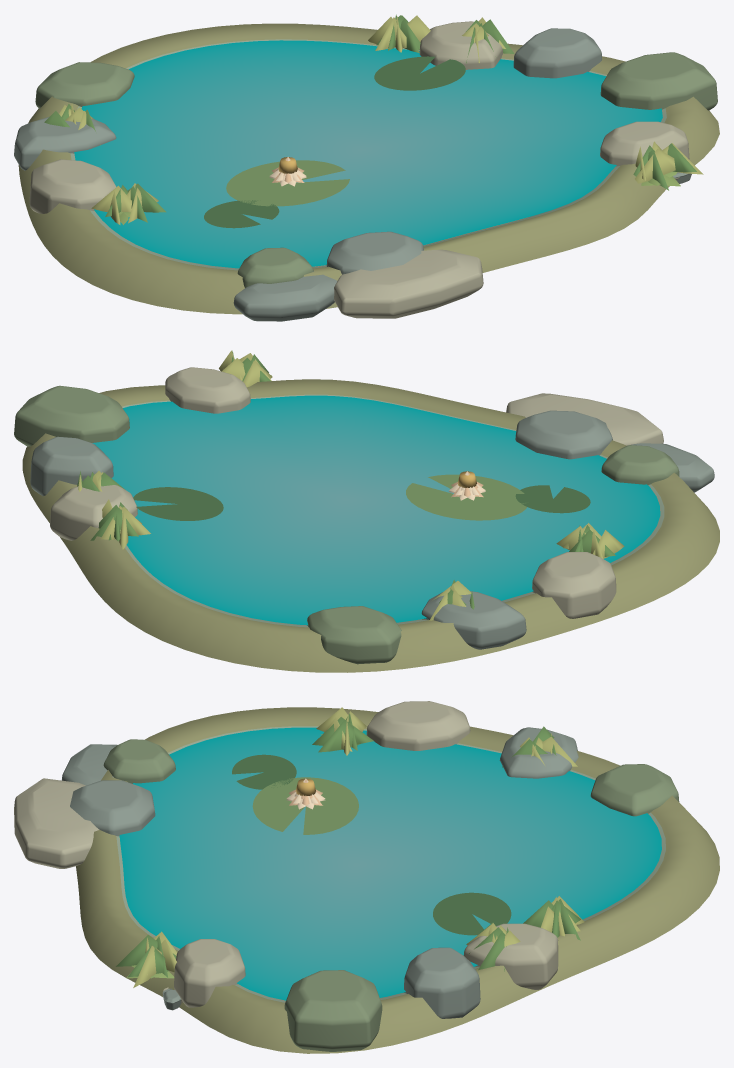
The model's file is cozy_pond.glb.
The picture shows the model from 3 angles, top to bottom: view 1: azimuth 30°, elevation 25°; view 2: azimuth 150°, elevation 25°; view 3: azimuth 270°, elevation 25°; orthographic projection. The views are drawn at different scales.
Parts seen in each view (by area): view 1: pond_PondWater, pond_PondBank, pond_StoneWarm, pond_StoneCool, pond_StoneMoss, Lilies_LilyDark, Lilies_Lily, pond_LeafGold, pond_Leaf, pond_WetSand, MarshPlants_LeafGold, MarshPlants_Leaf; view 2: pond_PondWater, pond_PondBank, pond_StoneWarm, pond_StoneCool, pond_StoneMoss, Lilies_LilyDark, Lilies_Lily, pond_LeafGold, pond_WetSand, MarshPlants_Leaf, MarshPlants_LeafGold, pond_Leaf; view 3: pond_PondWater, pond_PondBank, pond_StoneWarm, pond_StoneMoss, pond_StoneCool, Lilies_LilyDark, Lilies_Lily, pond_Leaf, pond_LeafGold, pond_WetSand, MarshPlants_Leaf, MarshPlants_LeafGold.
Boxes of the visible parts, <box> form: pond_PondWater: <box>74,40,662,268</box>; pond_PondBank: <box>18,23,719,314</box>; pond_StoneWarm: <box>29,21,689,318</box>; pond_StoneCool: <box>14,28,691,321</box>; pond_StoneMoss: <box>35,52,717,287</box>; Lilies_LilyDark: <box>204,56,465,228</box>; Lilies_Lily: <box>226,160,349,206</box>; pond_LeafGold: <box>59,103,703,224</box>; pond_Leaf: <box>44,104,696,222</box>; pond_WetSand: <box>70,39,666,270</box>; MarshPlants_LeafGold: <box>368,15,505,62</box>; MarshPlants_Leaf: <box>376,14,514,63</box>; pond_PondWater: <box>92,395,660,625</box>; pond_PondBank: <box>22,379,719,672</box>; pond_StoneWarm: <box>50,367,663,618</box>; pond_StoneCool: <box>30,410,714,649</box>; pond_StoneMoss: <box>14,385,679,664</box>; Lilies_LilyDark: <box>133,485,590,520</box>; Lilies_Lily: <box>406,474,526,520</box>; pond_LeafGold: <box>219,350,624,620</box>; pond_WetSand: <box>122,394,664,627</box>; MarshPlants_Leaf: <box>77,471,138,541</box>; MarshPlants_LeafGold: <box>78,471,150,549</box>; pond_Leaf: <box>231,350,615,609</box>; pond_PondWater: <box>119,727,661,1000</box>; pond_PondBank: <box>76,707,719,1053</box>; pond_StoneWarm: <box>14,701,558,1007</box>; pond_StoneMoss: <box>103,739,679,1051</box>; pond_StoneCool: <box>61,727,578,1018</box>; Lilies_LilyDark: <box>232,754,511,935</box>; Lilies_Lily: <box>252,777,358,834</box>; pond_Leaf: <box>116,713,556,977</box>; pond_LeafGold: <box>133,707,577,987</box>; pond_WetSand: <box>116,726,665,1002</box>; MarshPlants_Leaf: <box>469,899,580,971</box>; MarshPlants_LeafGold: <box>466,896,584,946</box>.
Bounding box in the file's own units: 2.66 × 0.224 × 2.38.
